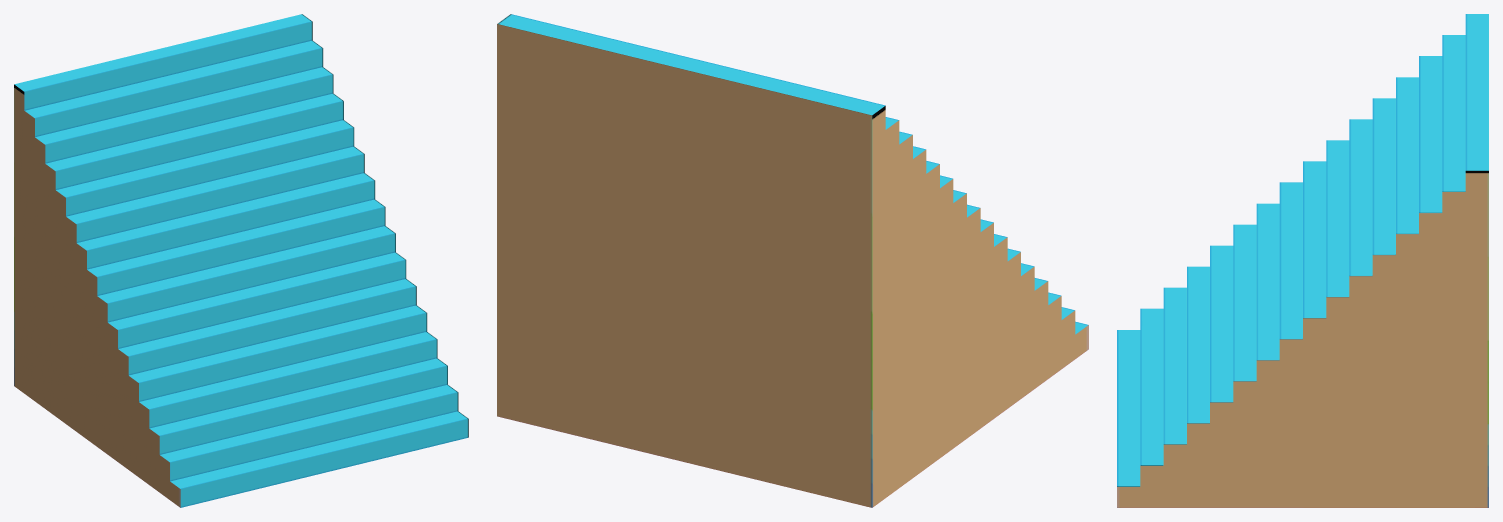
File: MK_Stairs_Trim_B_Wall_C.fbx
3 views of the same model, side by side, from view 1: azimuth 30°, elevation 25°; view 2: azimuth 150°, elevation 25°; view 3: azimuth 270°, elevation 25° (orthographic). The views are drawn at different scales.
Parts seen in each view (by area): view 1: Stairs_Trim_B_Wall_C; view 2: Stairs_Trim_B_Wall_C; view 3: Stairs_Trim_B_Wall_C.
Part boxes in pixels (<box>): Stairs_Trim_B_Wall_C: <box>14,14,468,507</box>; Stairs_Trim_B_Wall_C: <box>497,14,1088,507</box>; Stairs_Trim_B_Wall_C: <box>1117,14,1488,507</box>.
Bounding box in the file's own units: 180 × 180 × 180.
Materials: 1 (1 with a texture image).
